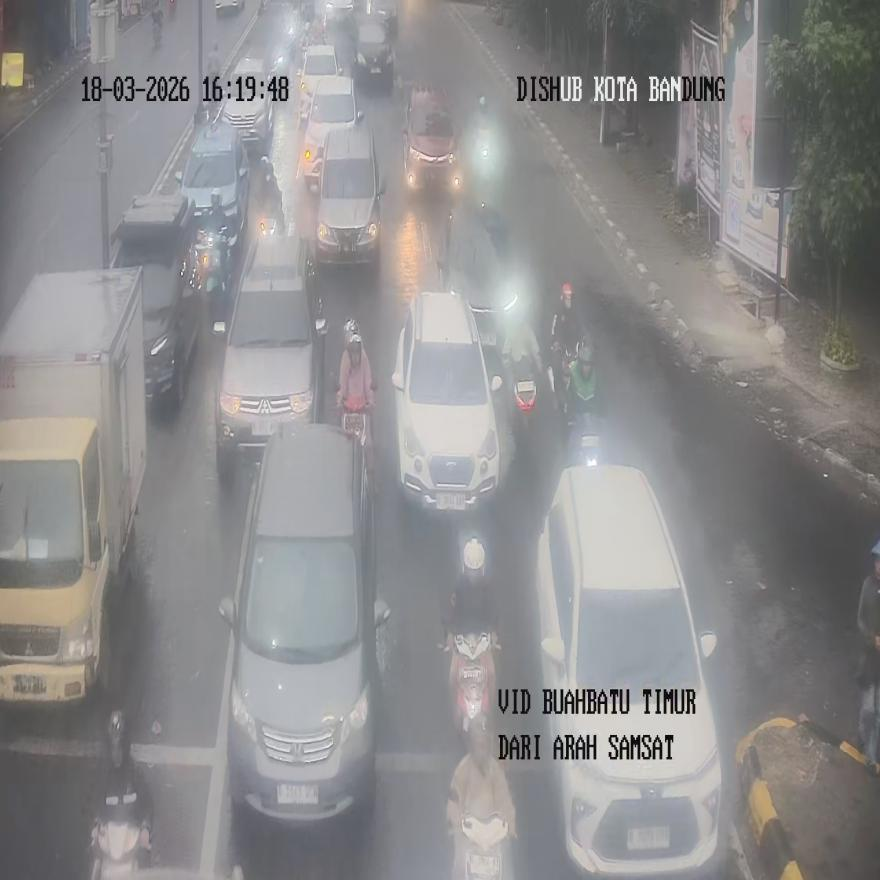Motor: (536, 463, 722, 875), (219, 421, 390, 824), (213, 220, 326, 476), (392, 290, 502, 512), (110, 193, 200, 408), (316, 117, 385, 268), (176, 118, 250, 255), (297, 73, 363, 190), (401, 83, 460, 194), (219, 56, 273, 156)
